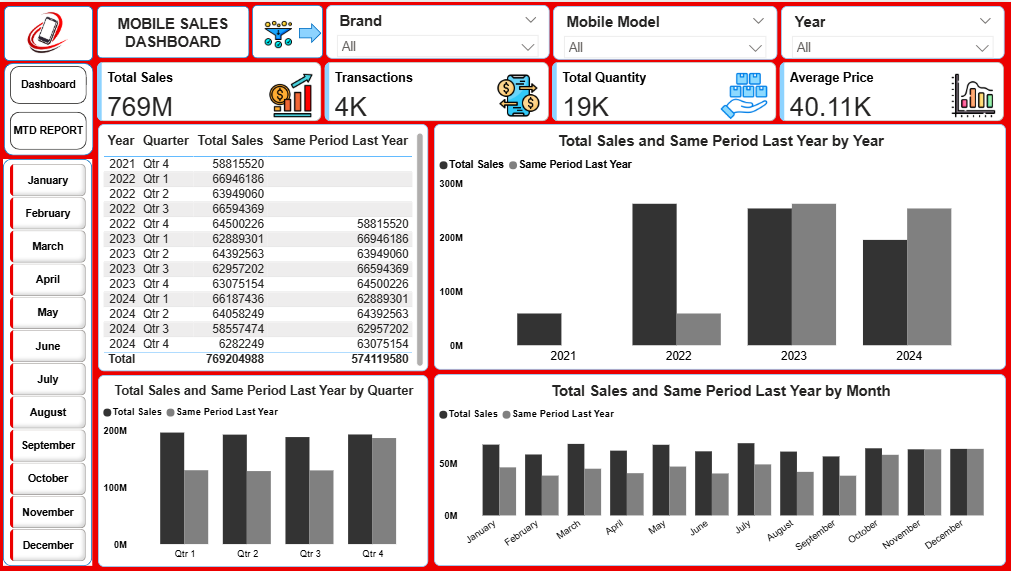

This screenshot's page, from the dashboard's own definition file:
{"tool":"powerbi","page":{"name":"Same Period Last Year","canvas":[1280,720],"ordinal":2},"visuals":[{"type":"shape","box":[6.3,5.1,112.7,69.6],"z":0},{"type":"image","box":[25.5,1,73,75.5],"z":1000},{"type":"shape","box":[5.1,198.7,112.7,515.2],"z":2000},{"type":"shape","box":[6,77,113,117],"z":3000},{"type":"cardVisual","fields":{"Data":["All Measures.Total Sales","All Measures.Total Transactioin","All Measures.Total Quantity","All Measures.Average Price"]},"box":[119.3,71.4,1160.7,85],"z":4000},{"type":"slicer","fields":{"Values":["Mobile Sales.Brand"]},"box":[414.2,4.2,283.3,68.3],"z":5000},{"type":"slicer","fields":{"Values":["Custom_Calender.Date.Variation.Date Hierarchy.Year","Custom_Calender.Date.Variation.Date Hierarchy.Quarter","Custom_Calender.Date.Variation.Date Hierarchy.Month","Custom_Calender.Date.Variation.Date Hierarchy.Day"]},"box":[990,5,282.5,66.7],"z":6000},{"type":"slicer","fields":{"Values":["Mobile Sales.Mobile Model"]},"box":[701.7,5,284.2,67.5],"z":7000},{"type":"shape","box":[320,4.2,90,67.5],"z":8000},{"type":"shape","box":[124.1,4.8,192.8,66.3],"z":9000},{"type":"textbox","box":[130.1,12,179.5,57.8],"z":10000},{"type":"tableEx","fields":{"Values":["Custom_Calender.Date.Variation.Date Hierarchy.Year","Custom_Calender.Date.Variation.Date Hierarchy.Quarter","All Measures.Total Sales","All Measures.Same Period Last Year"]},"box":[125.3,154.4,417.7,312.7],"z":11000},{"type":"lineClusteredColumnComboChart","fields":{"Category":["Custom_Calender.Date.Variation.Date Hierarchy.Year","Custom_Calender.Date.Variation.Date Hierarchy.Quarter"],"Y":["All Measures.Total Sales","All Measures.Same Period Last Year"]},"box":[550.6,154.4,724.1,311.4],"z":12000},{"type":"lineClusteredColumnComboChart","fields":{"Y":["All Measures.Total Sales","All Measures.Same Period Last Year"],"Category":["Custom_Calender.Date.Variation.Date Hierarchy.Month","Custom_Calender.Date.Variation.Date Hierarchy.Day"]},"box":[550.6,470.9,724.1,243],"z":13000},{"type":"lineClusteredColumnComboChart","fields":{"Category":["Custom_Calender.Date.Variation.Date Hierarchy.Quarter"],"Y":["All Measures.Total Sales","All Measures.Same Period Last Year"]},"box":[125.3,472.2,417.7,243],"z":14000},{"type":"advancedSlicerVisual","fields":{"Values":["Custom_Calender.Date.Variation.Date Hierarchy.Month"]},"box":[8.9,200,106.3,515.2],"z":15000},{"type":"pageNavigator","box":[14.3,80.7,97.9,107.9],"z":16000},{"type":"image","box":[324.3,17.6,59.5,47.3],"z":17000},{"type":"shape","box":[379.7,27,28.4,25.7],"z":18000}]}

Visuals, with their boxes in screenshot pixels (x1, y1, x2, y2), scaled from the page's 1280x720 canvas onto the 1011x571 screenshot:
shape: bbox(5, 4, 94, 59)
image: bbox(20, 1, 78, 61)
shape: bbox(4, 158, 93, 566)
shape: bbox(5, 61, 94, 154)
cardVisual - All Measures.Total Sales x All Measures.Total Transactioin: bbox(94, 57, 1010, 124)
slicer - Mobile Sales.Brand: bbox(327, 3, 551, 57)
slicer - Custom_Calender.Date.Variation.Date Hierarchy.Year x Custom_Calender.Date.Variation.Date Hierarchy.Quarter: bbox(782, 4, 1005, 57)
slicer - Mobile Sales.Mobile Model: bbox(554, 4, 779, 57)
shape: bbox(253, 3, 324, 57)
shape: bbox(98, 4, 250, 56)
textbox: bbox(103, 10, 245, 55)
tableEx - Custom_Calender.Date.Variation.Date Hierarchy.Year x Custom_Calender.Date.Variation.Date Hierarchy.Quarter: bbox(99, 122, 429, 370)
lineClusteredColumnComboChart - Custom_Calender.Date.Variation.Date Hierarchy.Year x Custom_Calender.Date.Variation.Date Hierarchy.Quarter: bbox(435, 122, 1007, 369)
lineClusteredColumnComboChart - All Measures.Total Sales x All Measures.Same Period Last Year: bbox(435, 373, 1007, 566)
lineClusteredColumnComboChart - Custom_Calender.Date.Variation.Date Hierarchy.Quarter x All Measures.Total Sales: bbox(99, 374, 429, 567)
advancedSlicerVisual - Custom_Calender.Date.Variation.Date Hierarchy.Month: bbox(7, 159, 91, 567)
pageNavigator: bbox(11, 64, 89, 150)
image: bbox(256, 14, 303, 51)
shape: bbox(300, 21, 322, 42)
